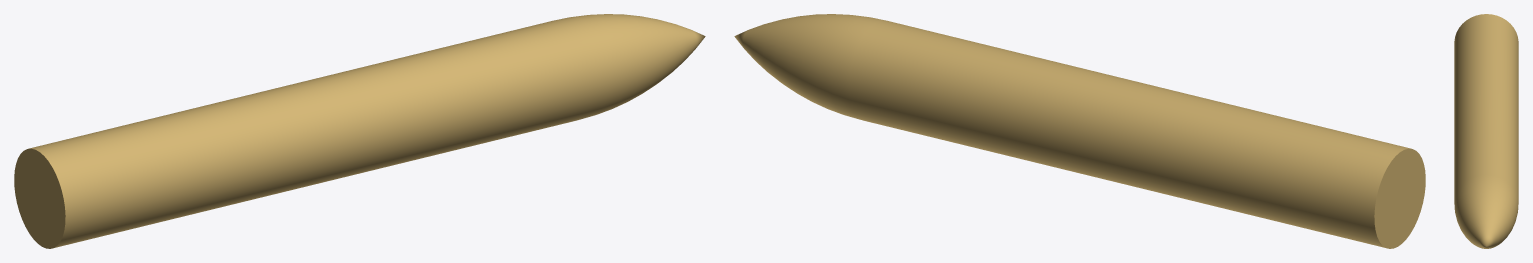
File: Bullet.fbx
The picture shows the model from 3 angles, left to right: view 1: azimuth 30°, elevation 25°; view 2: azimuth 150°, elevation 25°; view 3: azimuth 270°, elevation 25°; orthographic projection. The views are drawn at different scales.
Visible parts, largest first — view 1: GEO_Bullet; view 2: GEO_Bullet; view 3: GEO_Bullet.
Boxes of the visible parts, x1=… form: GEO_Bullet: x1=14, y1=14, x2=705, y2=248; GEO_Bullet: x1=734, y1=14, x2=1425, y2=248; GEO_Bullet: x1=1454, y1=14, x2=1518, y2=248.
Size of the model in its own units: 0.057 by 0.00761 by 0.00761.
